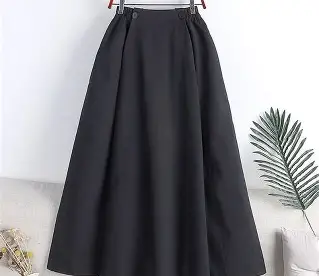rok_benar: (45, 10, 254, 273)
